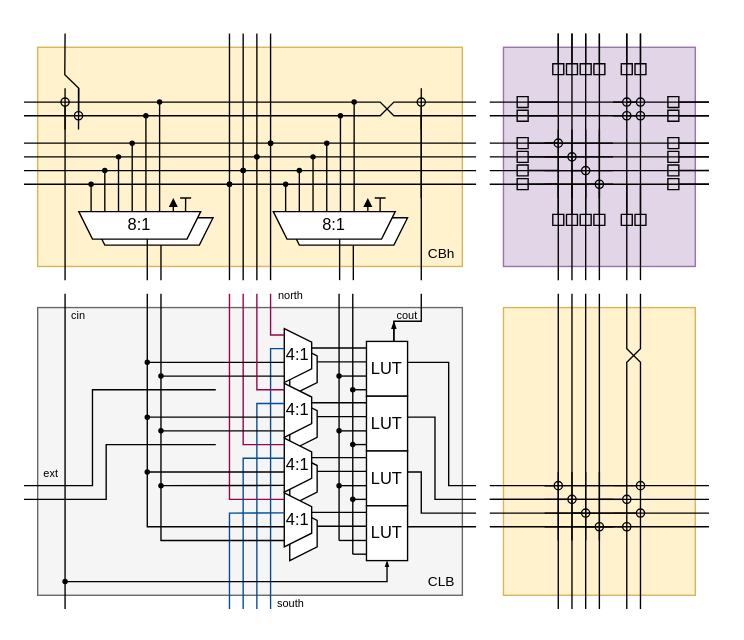
This 744x640 diagram has some shape labels left out. The centre of each missing label's shape, as x and y in pixels:
"CBv" belongs at pixel 598 450.
"SW" belongs at pixel 598 156.
